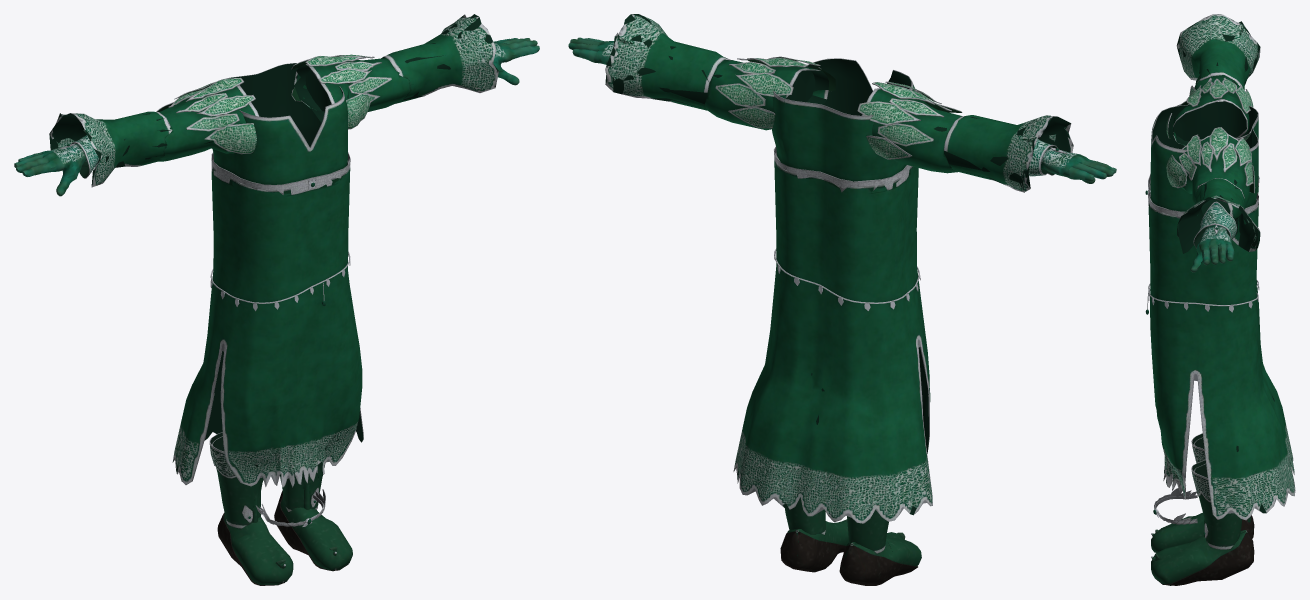
The model's file is mage_emerald.glb.
3 renders of one model, left to right at view 1: azimuth 30°, elevation 25°; view 2: azimuth 150°, elevation 25°; view 3: azimuth 270°, elevation 25°, orthographic. The views are drawn at different scales.
Parts seen in each view (by area): view 1: robe, feet, gloves; view 2: robe, feet, gloves; view 3: robe, feet, gloves, circlet.
Part boxes in pixels (x1,y1,x2,y2): robe: (49, 14, 498, 487); feet: (209, 432, 352, 585); gloves: (14, 38, 539, 196); robe: (605, 14, 1073, 523); feet: (780, 497, 921, 585); gloves: (568, 37, 1116, 183); robe: (1145, 14, 1295, 520); feet: (1151, 433, 1254, 585); gloves: (1190, 201, 1236, 272); circlet: (1153, 488, 1197, 524).
Size of the model in its own units: 1.8 by 1.63 by 0.4805.
4 materials, 4 textured.
